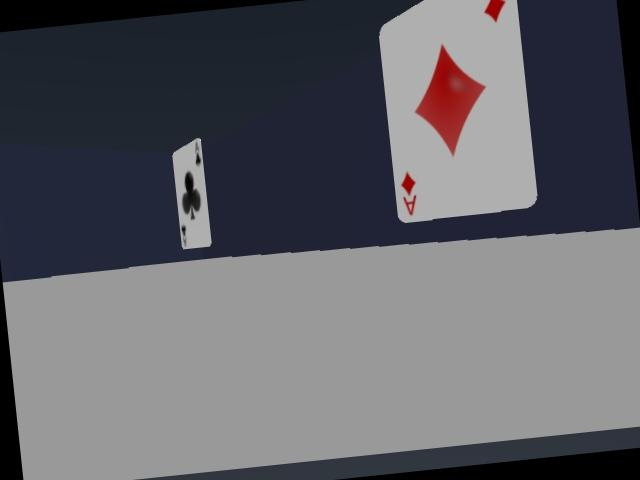club: (172, 138, 211, 248)
diamond: (379, 0, 536, 222)
